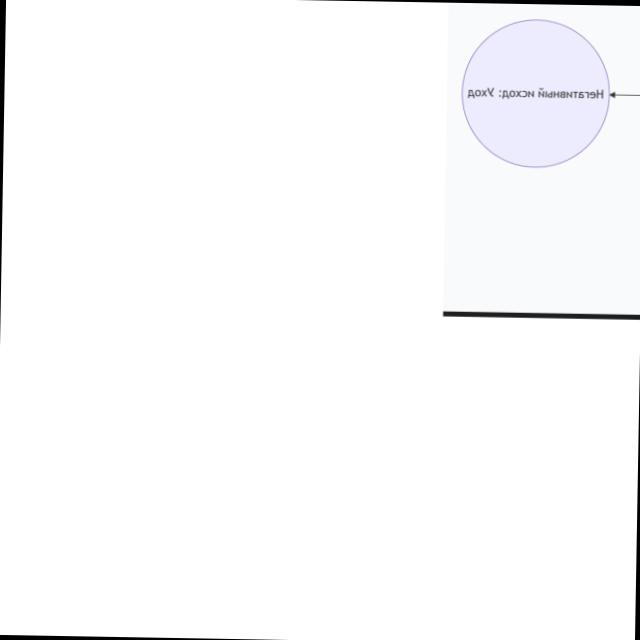circle: (461, 20, 609, 167)
